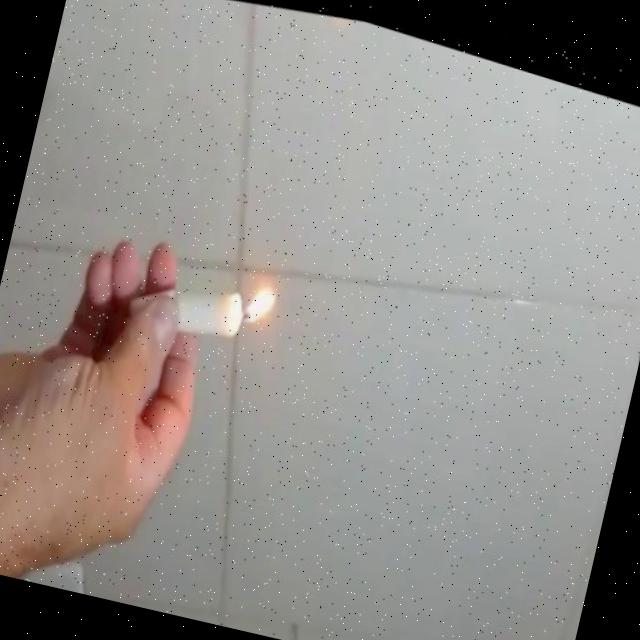fire: (236, 264, 292, 339)
